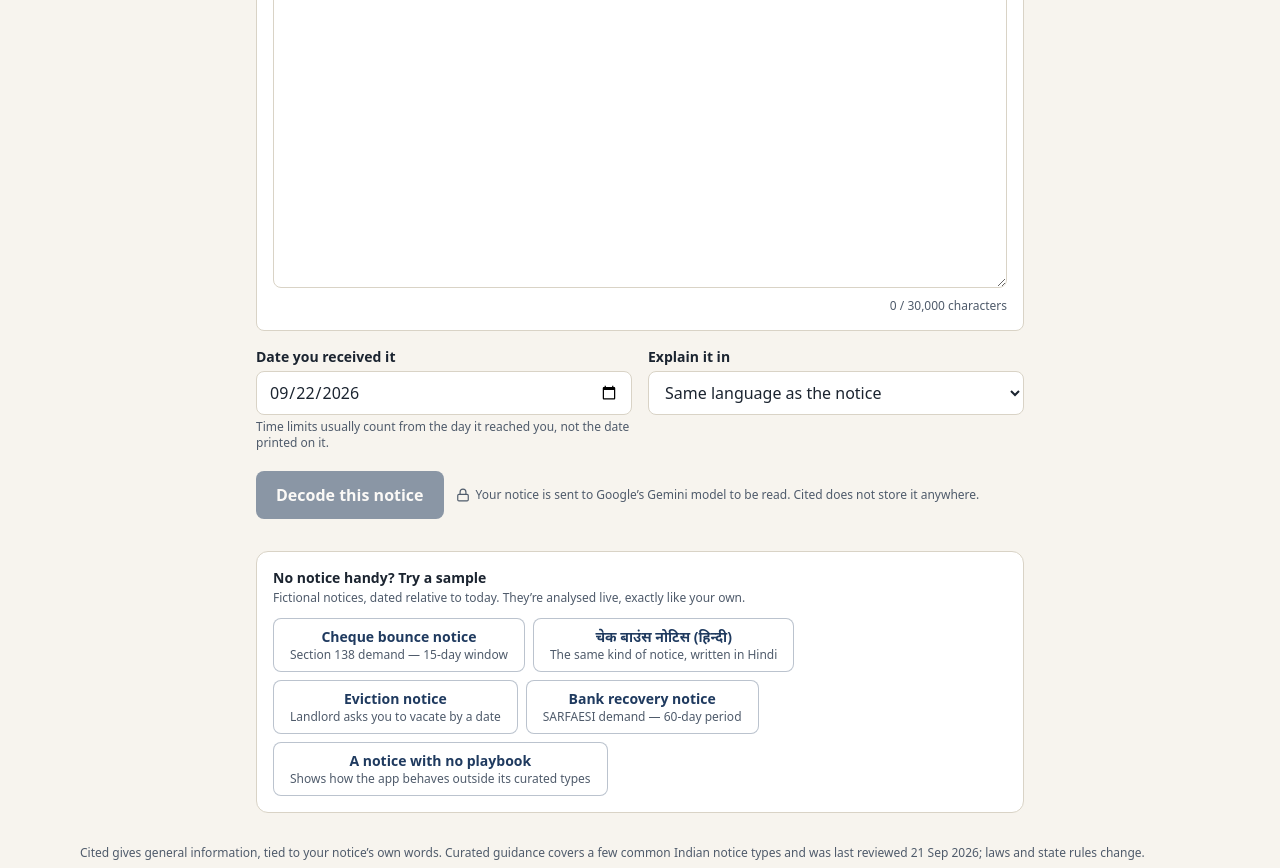
Test case: Ask about this notice › asks immediately when a starter question is clicked
(page scrolled)
Click the button "Cheque bounce notice Section 138 demand — 15-day window": (399, 645) [273,618,525,672]
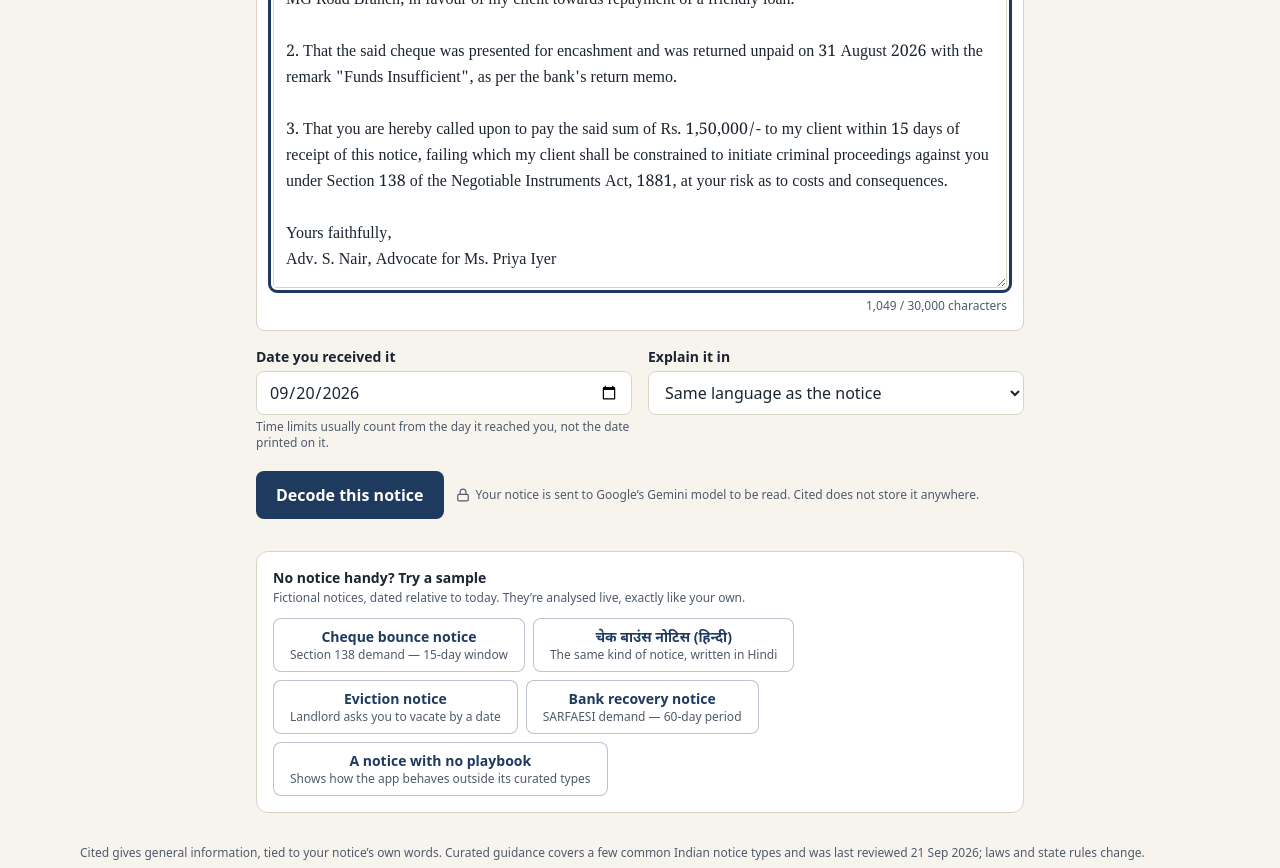
Click the button "Decode this notice": (350, 495) [256,471,444,519]
(page scrolled)
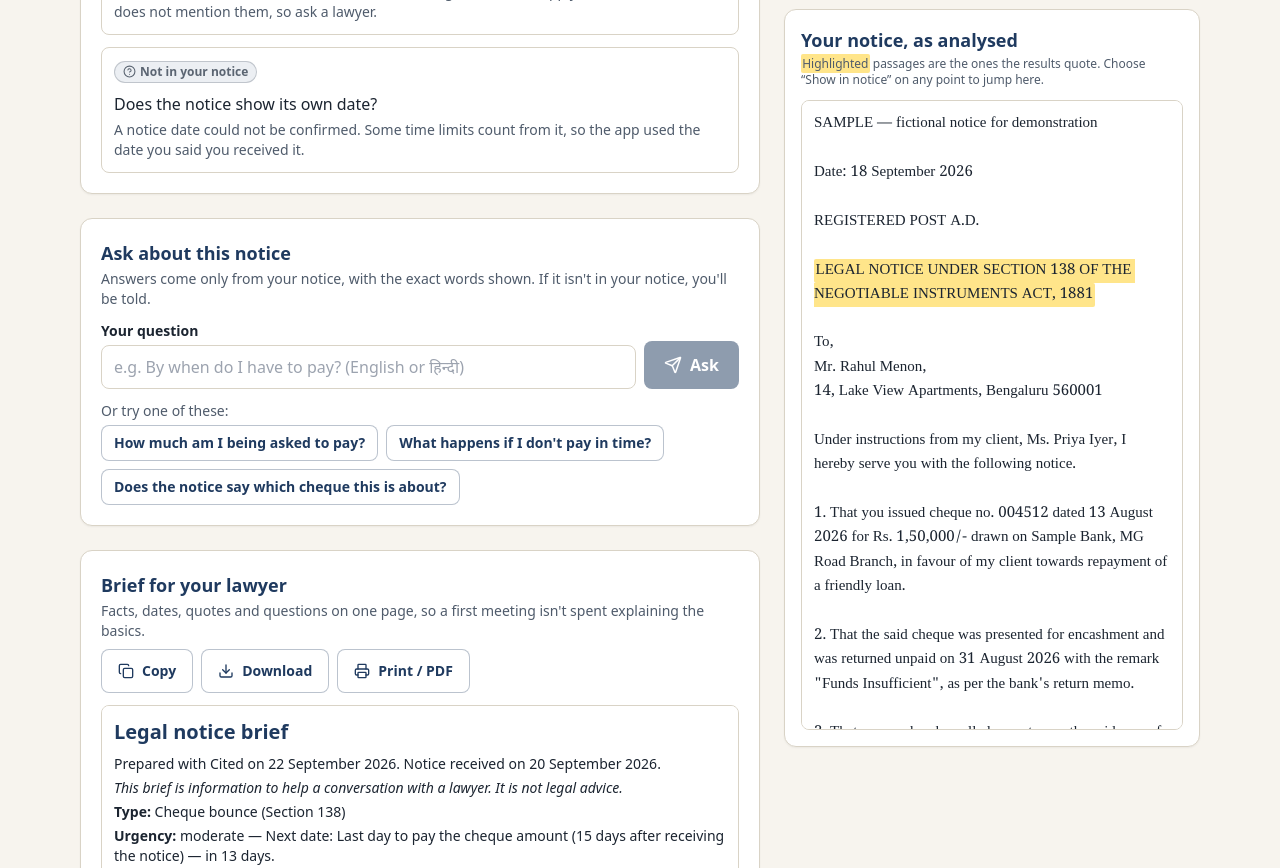
Click the button "How much am I being asked to pay?": (240, 443) [101,425,378,461]
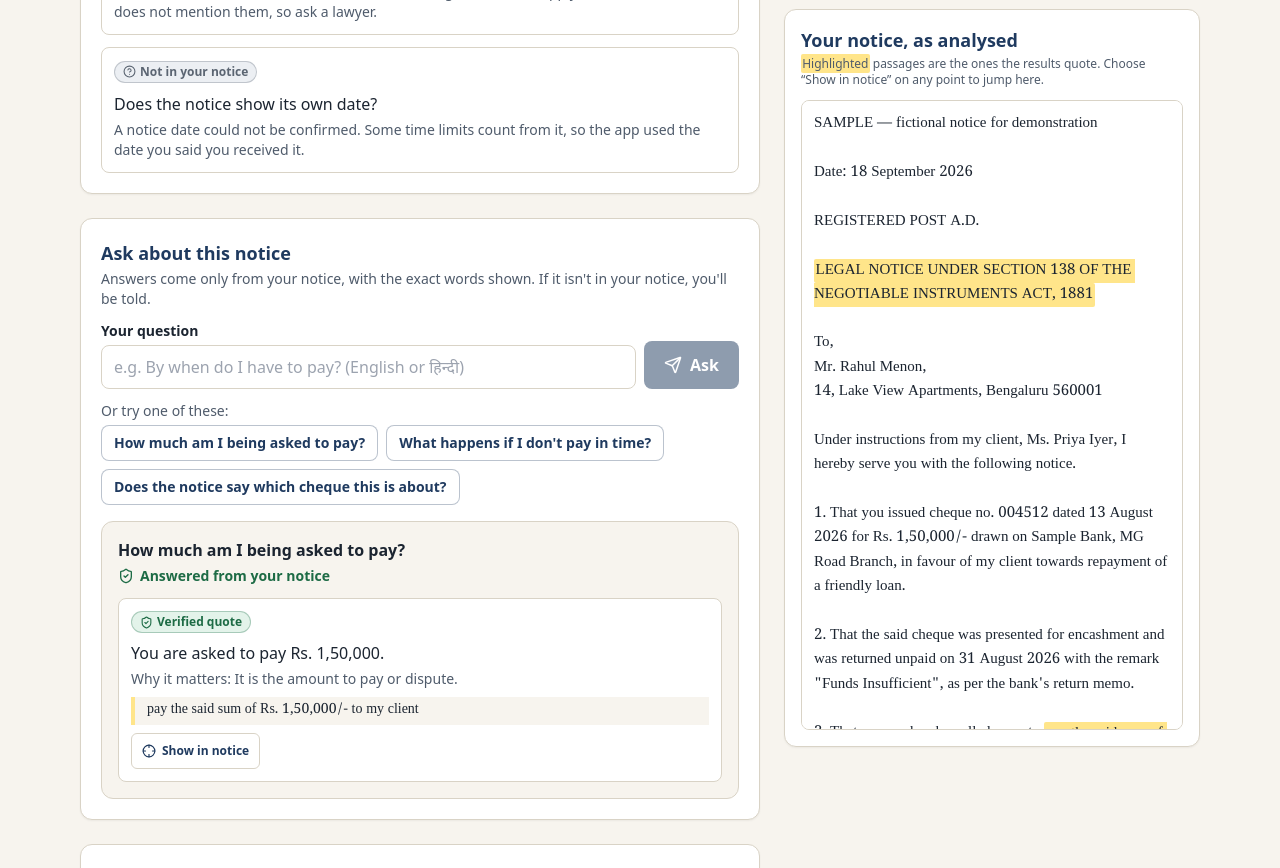
Expected: the heading "How much am I being asked to pay?" is shown, [118,539,405,561]
